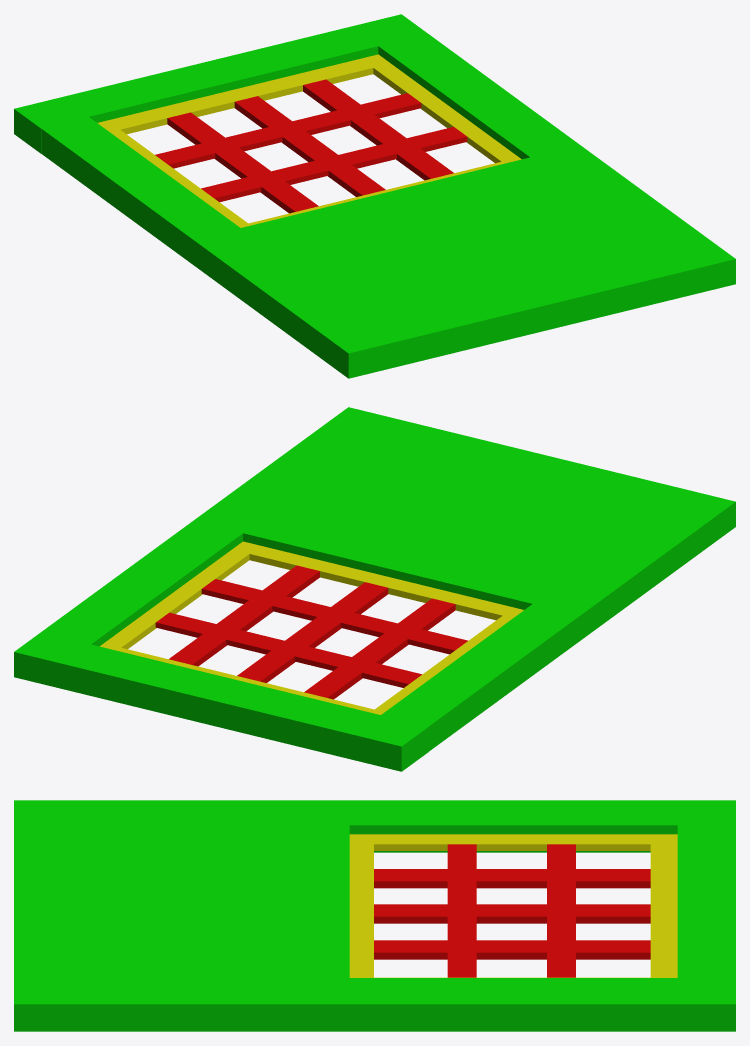
The model's file is SM_MuseumCeiling.fbx.
3 views of the same model, one above another, from view 1: azimuth 30°, elevation 25°; view 2: azimuth 150°, elevation 25°; view 3: azimuth 270°, elevation 25° (orthographic). The views are drawn at different scales.
Visible parts, largest first — view 1: pasted__pCube3; view 2: pasted__pCube3; view 3: pasted__pCube3.
Part boxes in pixels (x1,y1,x2,y2): pasted__pCube3: [14, 14, 735, 378]; pasted__pCube3: [14, 407, 735, 771]; pasted__pCube3: [14, 800, 735, 1031].
Size of the model in its own units: 16.06 by 1 by 24.
